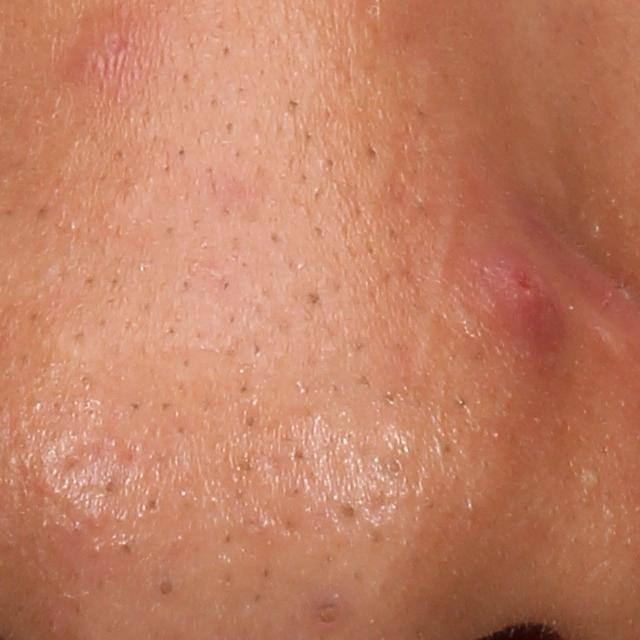comedo: (314, 600, 344, 628), (158, 579, 177, 601), (337, 501, 357, 521)
papule: (480, 251, 572, 351), (61, 40, 117, 83)
